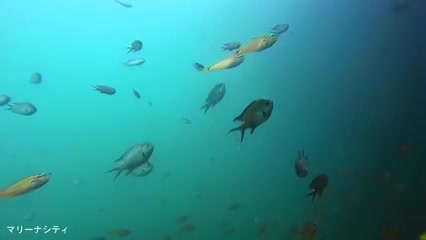mezina: (226, 93, 280, 144), (107, 138, 160, 185)
smallfish: (231, 31, 282, 63)
